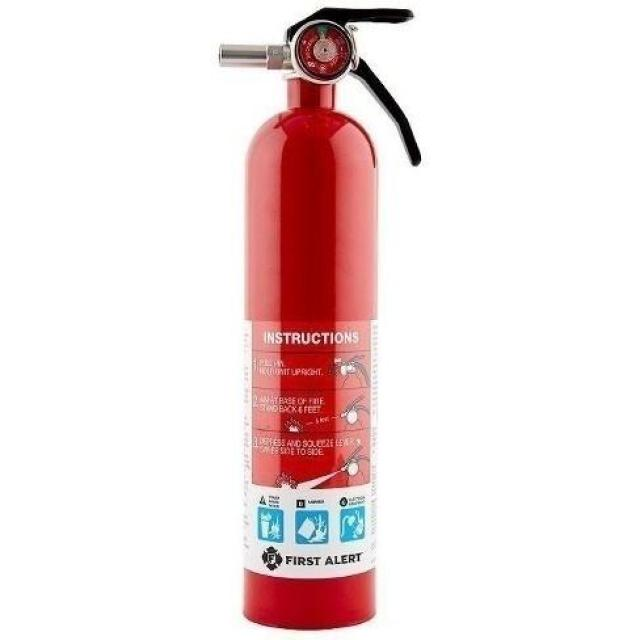fire_extinguisher: (198, 0, 434, 635)
